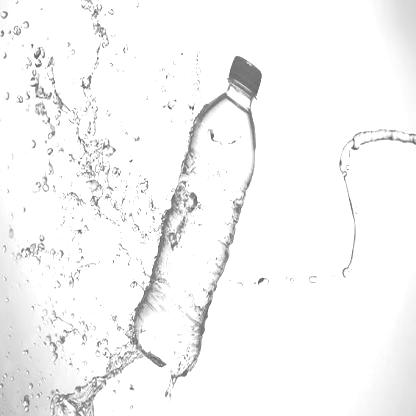bottle: (128, 54, 265, 382)
